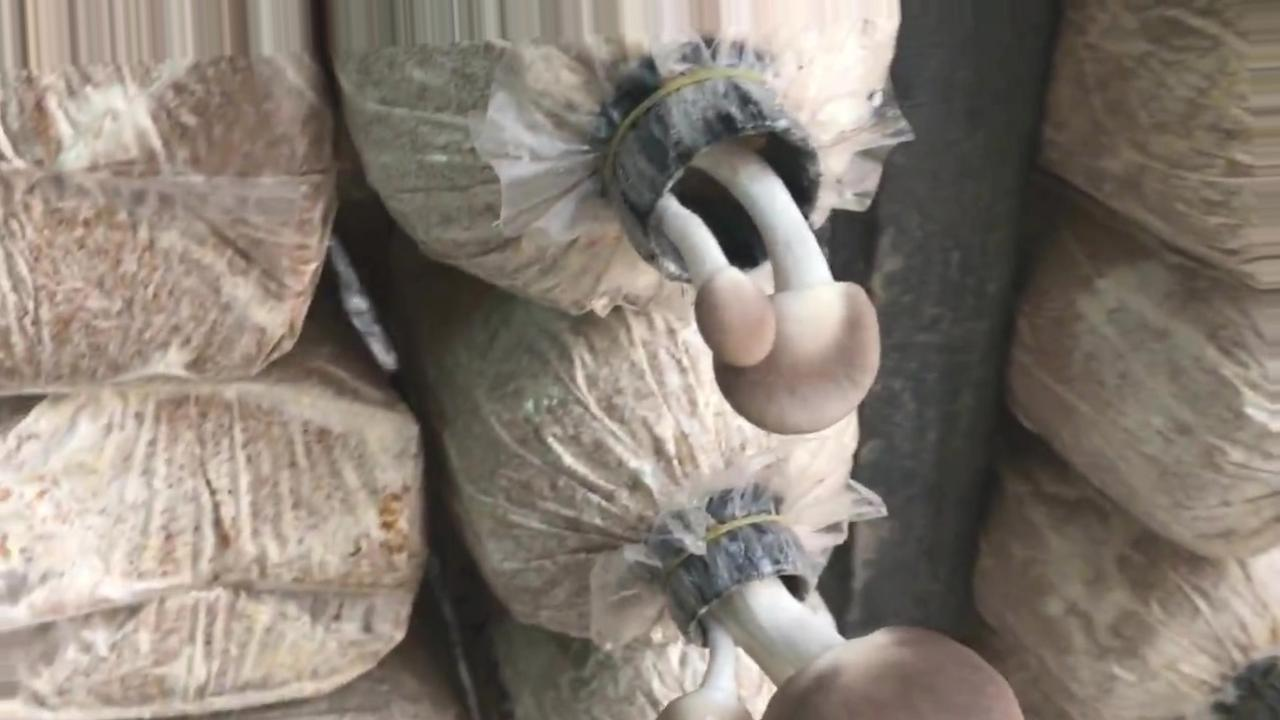nam: (606, 67, 879, 432), (663, 517, 1018, 720)
